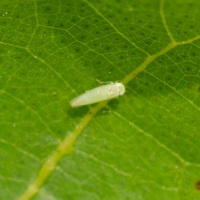insect: (70, 82, 124, 106)
